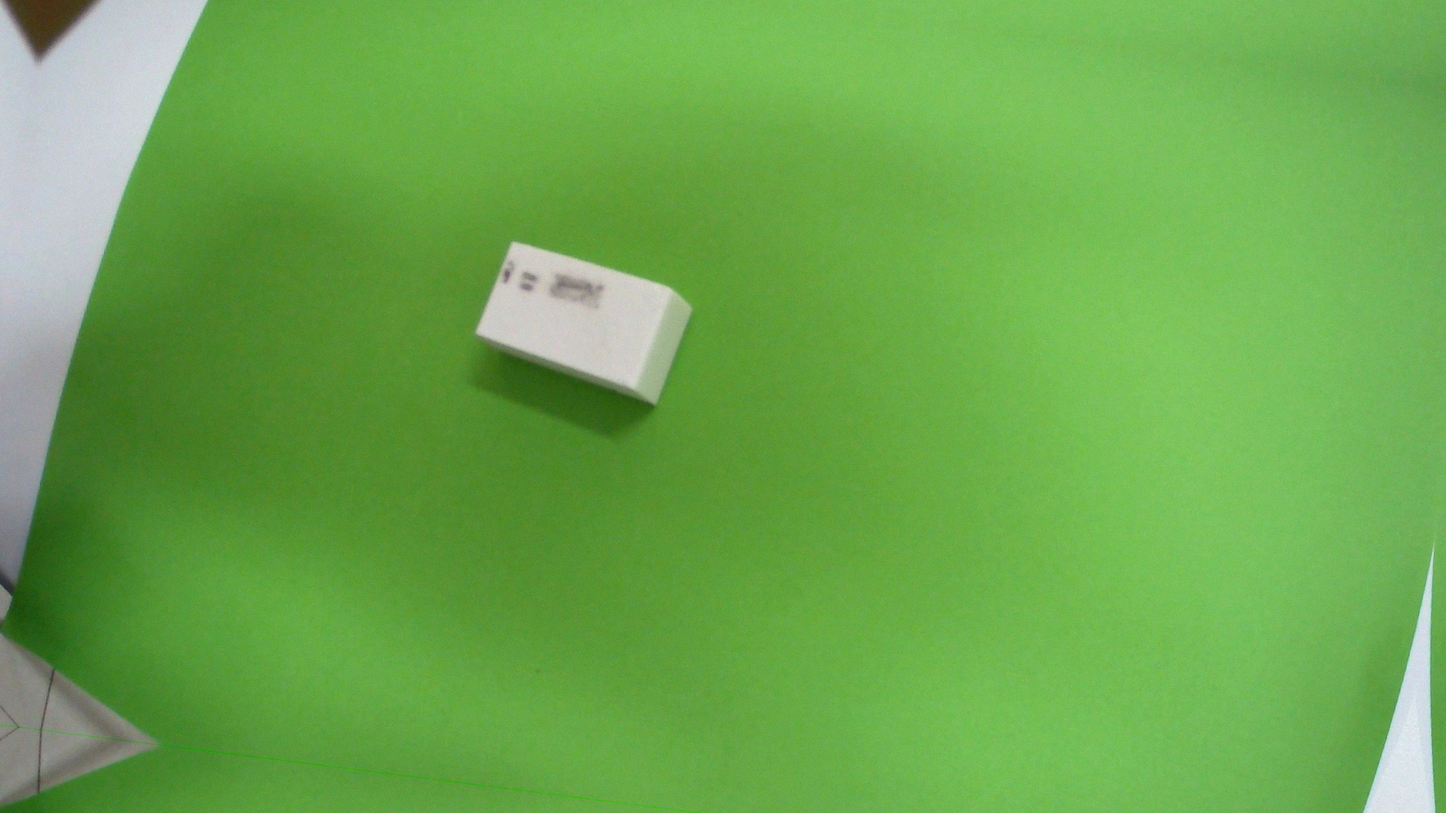gom: (471, 230, 697, 415)
